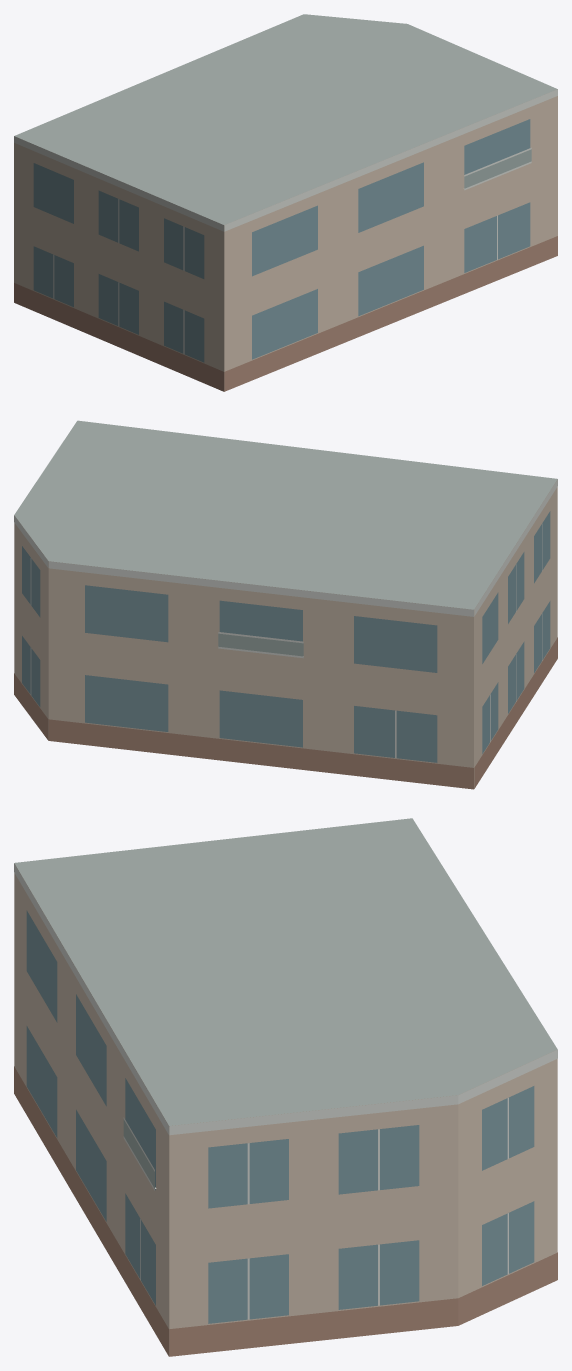
The model's file is survey-upis-32678334.glb.
3 renders of one model, top to bottom at view 1: azimuth 30°, elevation 25°; view 2: azimuth 150°, elevation 25°; view 3: azimuth 270°, elevation 25°, orthographic. The views are drawn at different scales.
Parts seen in each view (by area): view 1: survey-upis-32678334.tmp; view 2: survey-upis-32678334.tmp; view 3: survey-upis-32678334.tmp.
Boxes of the visible parts, bbox=[...] form: survey-upis-32678334.tmp: bbox=[14, 14, 557, 391]; survey-upis-32678334.tmp: bbox=[14, 420, 557, 789]; survey-upis-32678334.tmp: bbox=[14, 818, 557, 1356].
Bounding box in the file's own units: 17.47 × 6.1 × 13.04.
